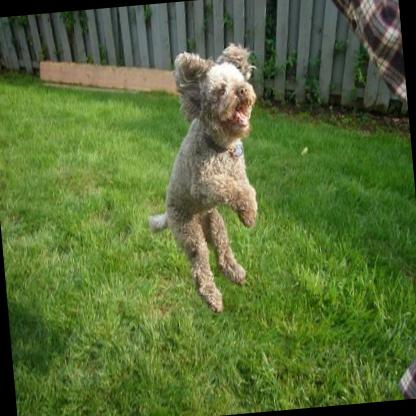miniature_poodle: (134, 37, 276, 318)
